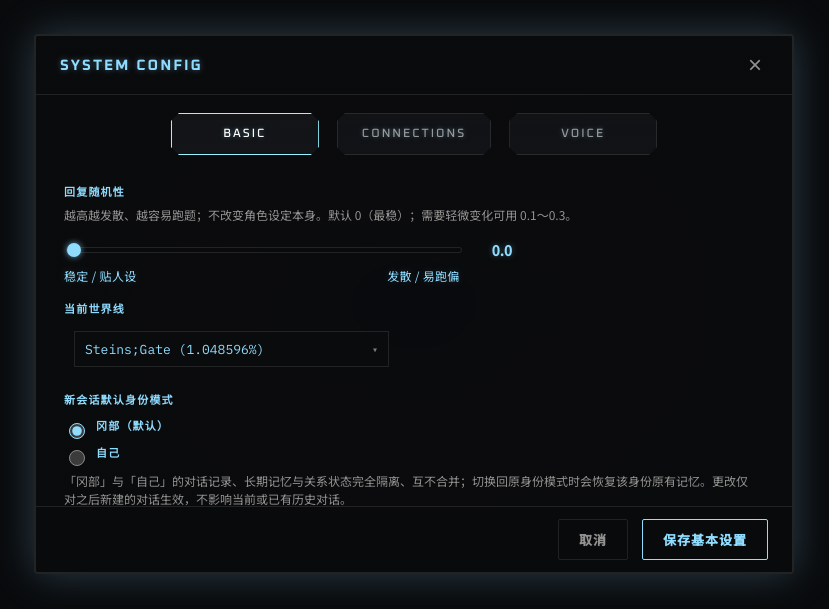
Test case: SYSTEM CONFIG information architecture › exposes three tabs and no Settings Memory Ledger path
The width and height of the screenshot is (829, 609).
Expected: the button "BASIC" is shown, [171,113,319,155]
Expected: the button "CONNECTIONS" is shown, [337,113,491,155]
Click the button "VOICE" at (583, 134), box [509,113,657,155]
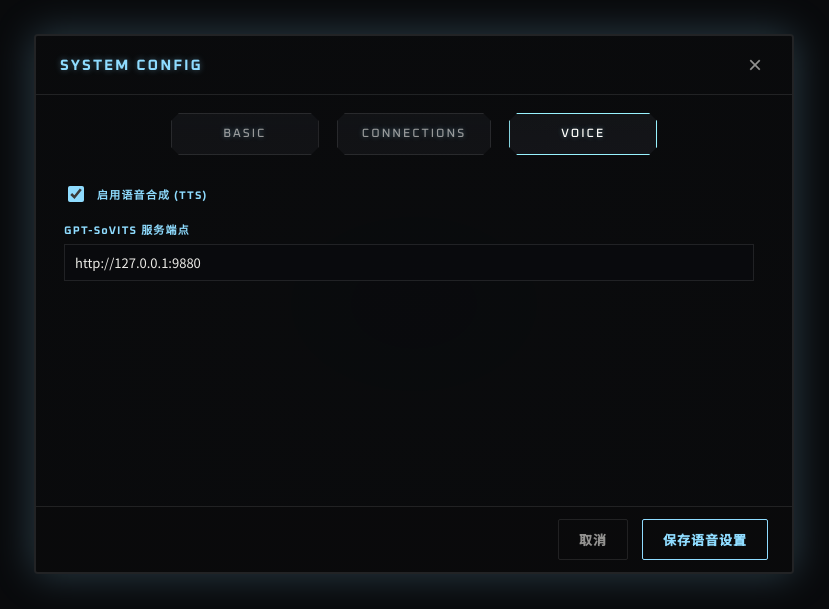
Result: the button "保存语音设置" is shown at [642,519,768,560]
